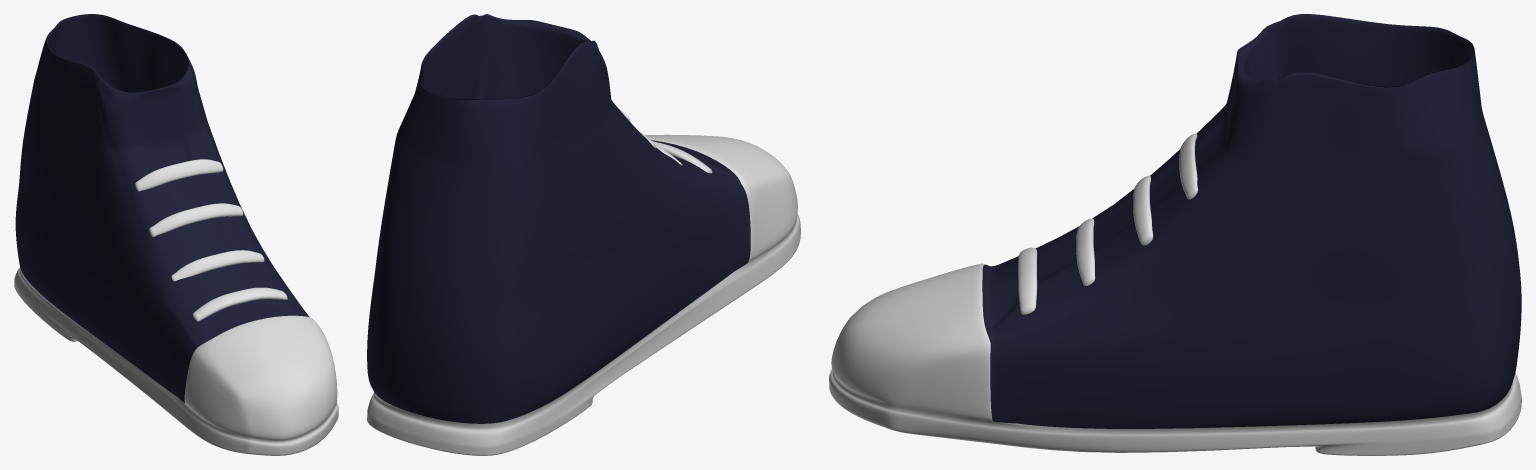
Rendered from LeftShoeFinal.fbx.
The picture shows the model from 3 angles, left to right: view 1: azimuth 30°, elevation 25°; view 2: azimuth 150°, elevation 25°; view 3: azimuth 270°, elevation 25°; orthographic projection. The views are drawn at different scales.
Visible parts, largest first — view 1: leftShoe, lace4, lace3, lace2, lace; view 2: leftShoe, lace; view 3: leftShoe, lace, lace3, lace2, lace4.
Part boxes in pixels (x1,y1,x2,y2): leftShoe: (14, 14, 338, 455); lace4: (135, 159, 223, 191); lace3: (149, 203, 243, 236); lace2: (171, 250, 264, 281); lace: (192, 287, 287, 321); leftShoe: (367, 14, 800, 455); lace: (652, 141, 712, 173); leftShoe: (829, 14, 1521, 455); lace: (1018, 247, 1037, 314); lace3: (1133, 176, 1153, 245); lace2: (1076, 218, 1095, 286); lace4: (1179, 133, 1197, 199).
Size of the model in its own units: 1.25 by 2.36 by 3.98.
